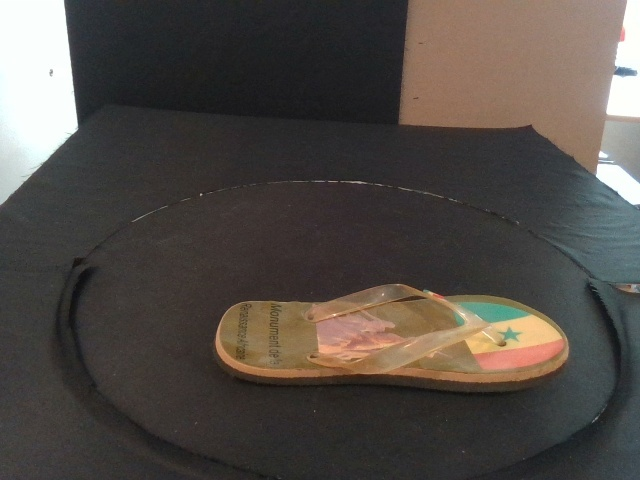shoe: (211, 283, 568, 391)
